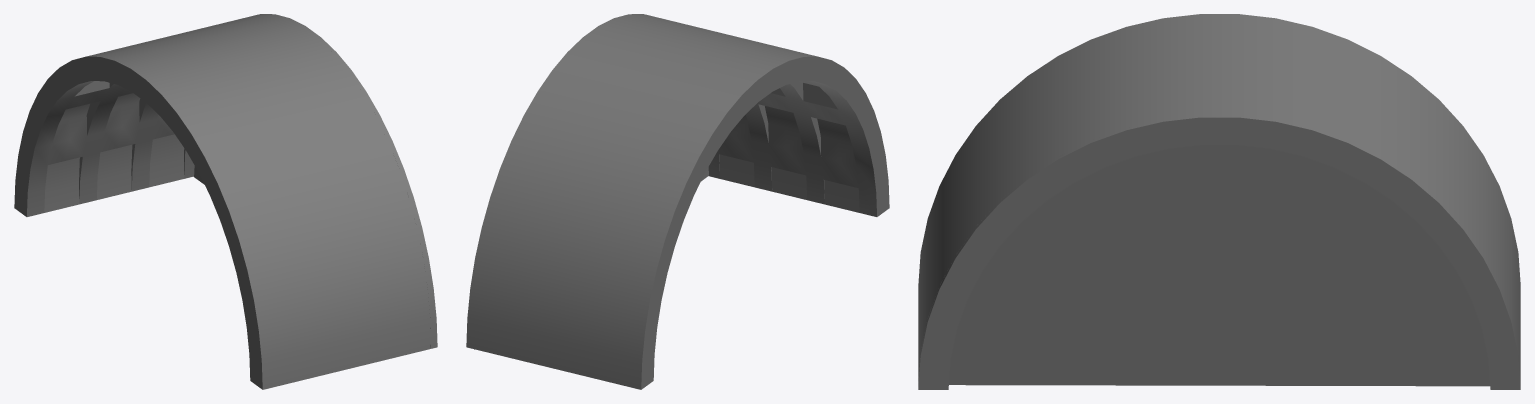
Rendered from techoCerrado.glb.
3 views of the same model, side by side, from view 1: azimuth 30°, elevation 25°; view 2: azimuth 150°, elevation 25°; view 3: azimuth 270°, elevation 25° (orthographic). The views are drawn at different scales.
Visible parts, largest first — view 1: Circle.002; view 2: Circle.002; view 3: Circle.001, Circle.002.
Boxes of the visible parts, x1,y1,x2,y2 form: Circle.002: (14,14,437,389); Circle.002: (466,14,889,389); Circle.001: (918,145,1490,386); Circle.002: (918,14,1520,389).
Size of the model in its own units: 4.88 by 6.01 by 12.
Materials: 2 (2 with a texture image).
